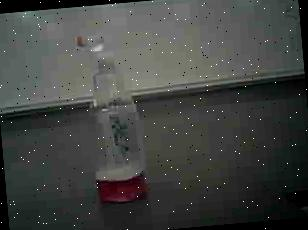hazard: (64, 20, 166, 210)
